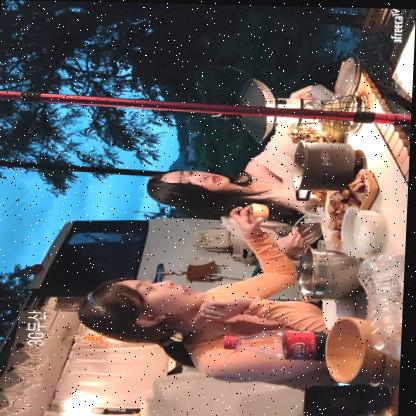streamer: (75, 198, 354, 399), (142, 81, 327, 266)
